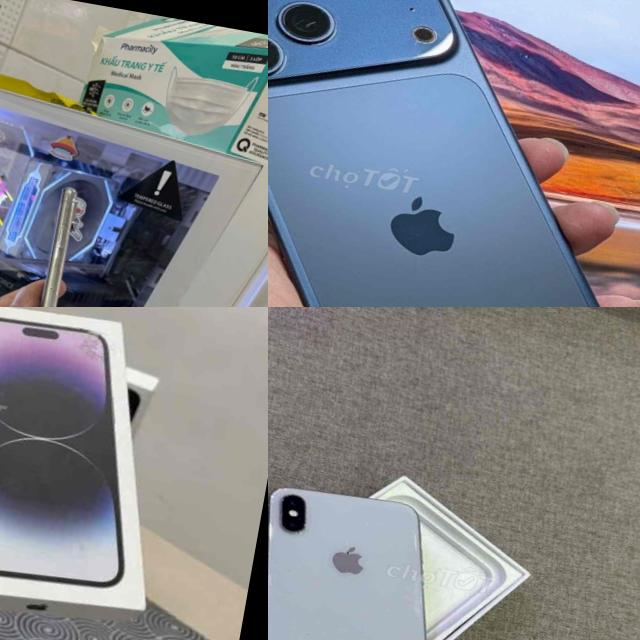gen_17: (268, 0, 640, 307)
gen_x_xs: (268, 464, 476, 640), (9, 179, 96, 307)
